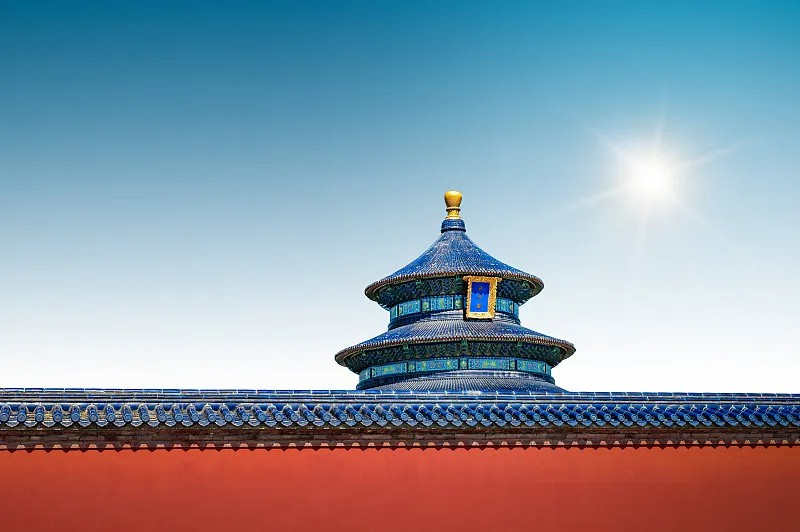Heaven: (334, 191, 576, 392)
